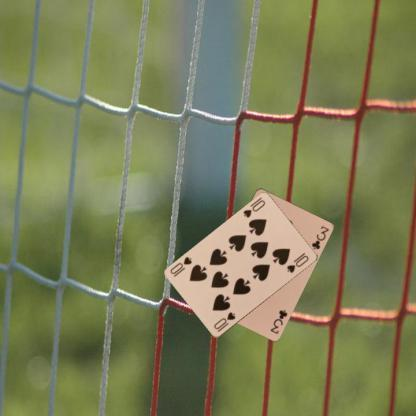10s: (212, 310, 236, 334), (240, 198, 266, 220)
3c: (268, 306, 288, 336)
